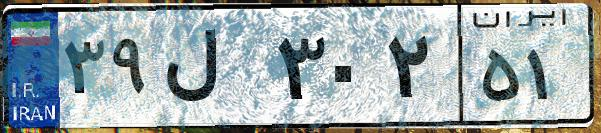0: (330, 28, 385, 110)
1: (525, 38, 570, 115)
2: (385, 28, 445, 110)
3: (270, 28, 330, 110), (57, 26, 110, 100)
5: (475, 38, 525, 113)
9: (110, 28, 158, 98)
ل: (158, 20, 270, 120)
